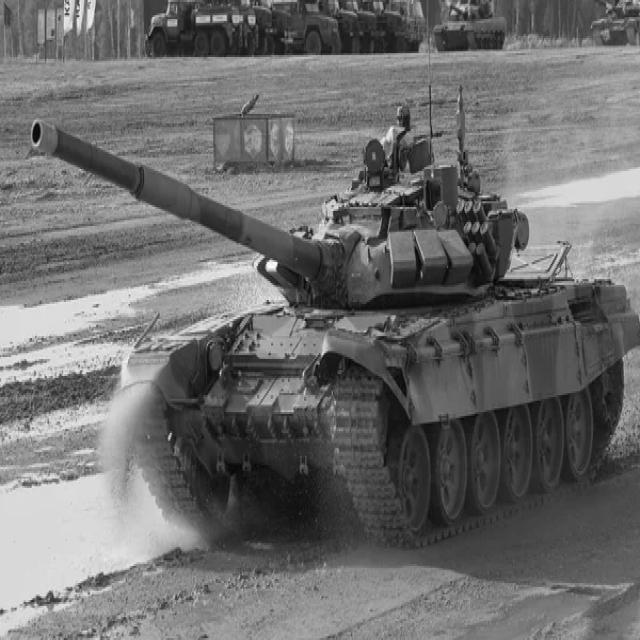Tank: (29, 99, 640, 550)
